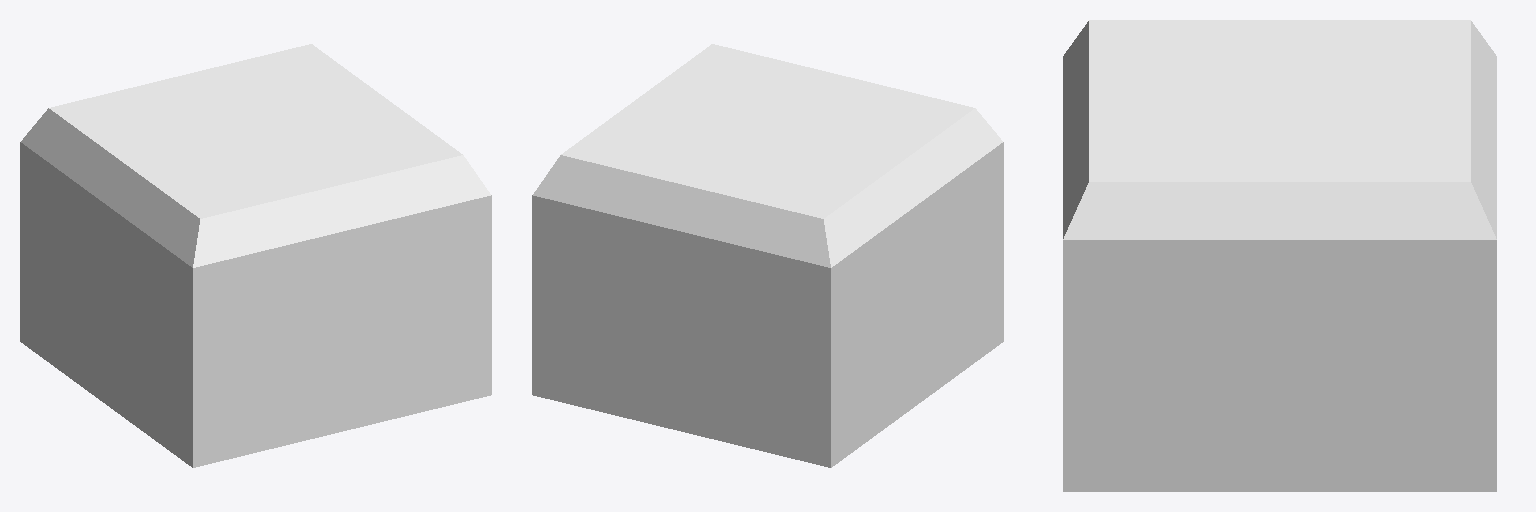
robot.urdf — box:
<?xml version="1.0" ?>
<robot name="box">
  <link name="baseLink">
    <contact>
      <lateral_friction value="1.0"/>
      <rolling_friction value="0.0"/>
      <contact_cfm value="0.0"/>
      <contact_erp value="1.0"/>
    </contact>
    <inertial>
      <origin rpy="0 0 0" xyz="0 0 0"/>
      <mass value="40"/>
      <inertia ixx="1" ixy="0" ixz="0" iyy="1" iyz="0" izz="1"/>
    </inertial>
    <visual>
      <origin rpy="0 0 0" xyz="0 0 0"/>
      <geometry>
		    <mesh filename="gripper-simulation.obj" scale="1 1 1"/>
      </geometry>
      <material name="white">
        <color rgba="1 1 1 1"/>
      </material>
    </visual>
    <collision>
      <origin rpy="0 0 0" xyz="0 0 0"/>
      <geometry>
	      <mesh filename="gripper-simulation.obj" scale="1 1 1"/>
      </geometry>
    </collision>
  </link>
</robot>

--- Render facts (derived) ---
The picture shows the robot from 3 angles, left to right: view 1: azimuth 30°, elevation 25°; view 2: azimuth 150°, elevation 25°; view 3: azimuth 270°, elevation 25°; orthographic projection.
Model box with 1 links and 0 joints (none), rooted at baseLink, posed all joints at 0.
Visible links, largest first — view 1: baseLink; view 2: baseLink; view 3: baseLink.
Link boxes in pixels (x1,y1,x2,y2): baseLink: (20,44,491,467); baseLink: (532,44,1003,467); baseLink: (1063,20,1496,491).
Bounding box of the posed robot: 0.1383 × 0.1383 × 0.105 m (x, y, z).
1 mesh visuals loaded from 1 distinct referenced files (1 OBJ).